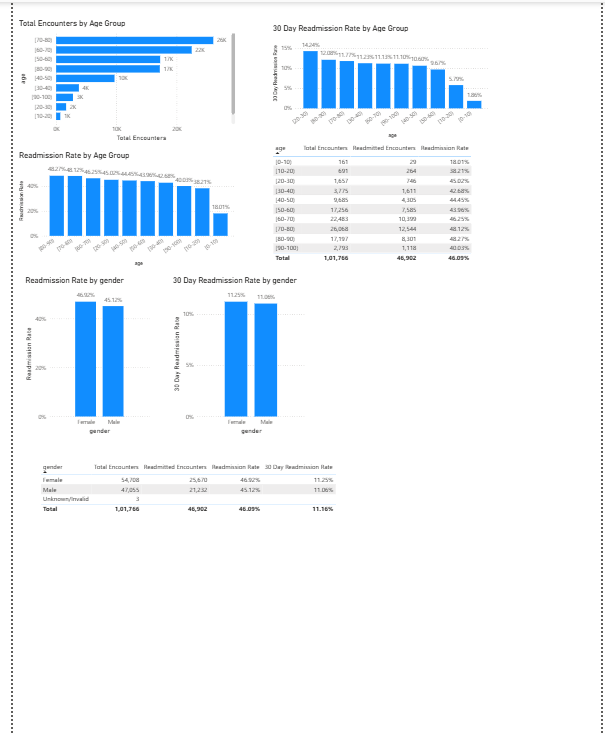

The dashboard page shown, as its layout file describes it:
{"tool":"powerbi","page":{"name":"Demographic Analysis","canvas":[1280,1600],"ordinal":3},"visuals":[{"type":"tableEx","fields":{"Values":["diabetic_data.age","diabetic_data.Total Encounters","diabetic_data.Readmitted Encounters","diabetic_data.Readmission Rate"]},"box":[559,301,449,278],"z":0},{"type":"clusteredBarChart","title":"Total Encounters by Age Group","fields":{"Category":["diabetic_data.age"],"Y":["diabetic_data.Total Encounters"]},"box":[9,36,480,273],"z":1000},{"type":"clusteredColumnChart","title":"Readmission Rate by Age Group","fields":{"Category":["diabetic_data.age"],"Y":["diabetic_data.Readmission Rate"]},"box":[9,324,480,255],"z":2000},{"type":"clusteredColumnChart","title":"30 Day Readmission Rate by Age Group","fields":{"Y":["diabetic_data.30 Day Readmission Rate"],"Category":["diabetic_data.age"]},"box":[559,45,480,255],"z":3000},{"type":"tableEx","fields":{"Values":["diabetic_data.gender","diabetic_data.Total Encounters","diabetic_data.Readmitted Encounters","diabetic_data.Readmission Rate","diabetic_data.30 Day Readmission Rate"]},"box":[53,995,662,125],"z":4000},{"type":"clusteredColumnChart","fields":{"Y":["diabetic_data.Readmission Rate"],"Category":["diabetic_data.gender"]},"box":[22,596,280,350],"z":5000},{"type":"clusteredColumnChart","fields":{"Category":["diabetic_data.gender"],"Y":["diabetic_data.30 Day Readmission Rate"]},"box":[342,596,298,350],"z":6000}]}

Visuals, with their boxes in screenshot pixels (x1, y1, x2, y2), scaled from the page's 1280x1600 canvas onto the 605x735 screenshot:
tableEx - diabetic_data.age x diabetic_data.Total Encounters: left=264, top=138, right=476, bottom=266
"Total Encounters by Age Group" clusteredBarChart: left=4, top=17, right=231, bottom=142
"Readmission Rate by Age Group" clusteredColumnChart: left=4, top=149, right=231, bottom=266
"30 Day Readmission Rate by Age Group" clusteredColumnChart: left=264, top=21, right=491, bottom=138
tableEx - diabetic_data.gender x diabetic_data.Total Encounters: left=25, top=457, right=338, bottom=514
clusteredColumnChart - diabetic_data.Readmission Rate x diabetic_data.gender: left=10, top=274, right=143, bottom=435
clusteredColumnChart - diabetic_data.gender x diabetic_data.30 Day Readmission Rate: left=162, top=274, right=302, bottom=435
